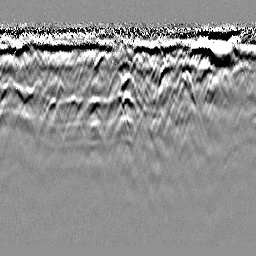cavity: (116, 71, 142, 110)
